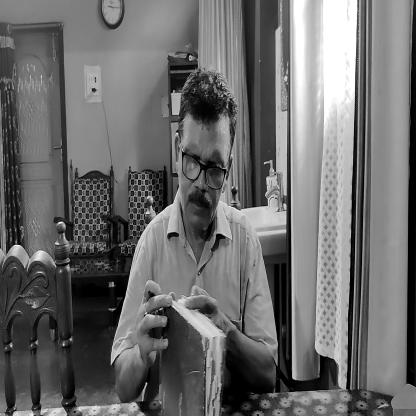Normal: (172, 65, 234, 237)
